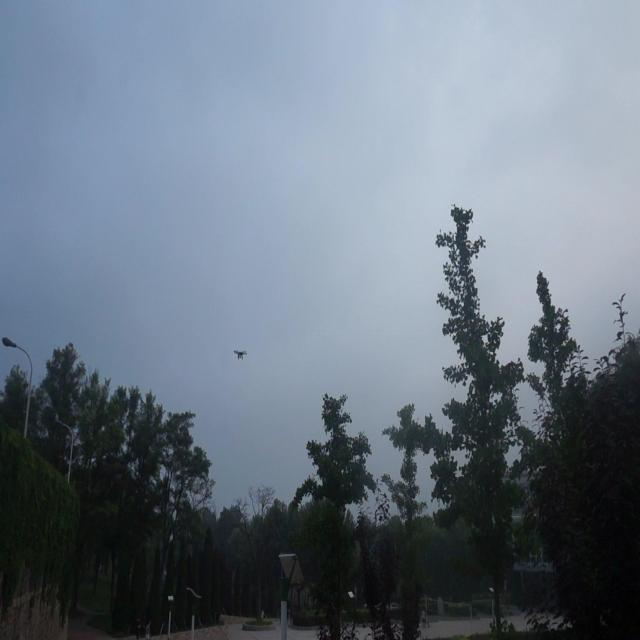drone: (234, 346, 247, 364)
